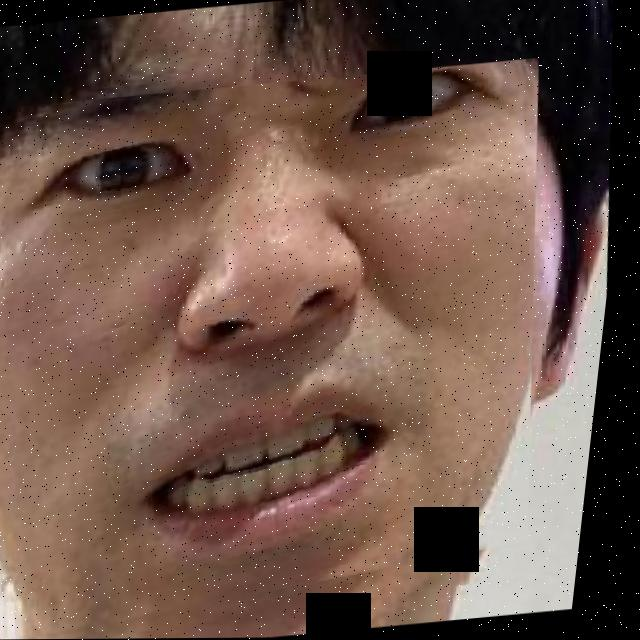anger: (0, 58, 587, 640)
